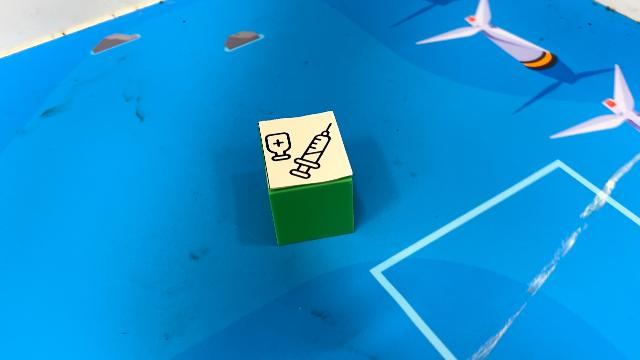syringe: (258, 110, 354, 246)
